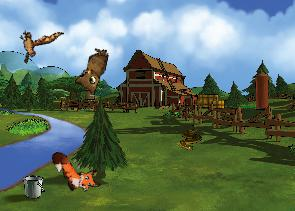eagle: (8, 13, 64, 72)
fox: (48, 139, 104, 201)
owl: (72, 44, 109, 95)
